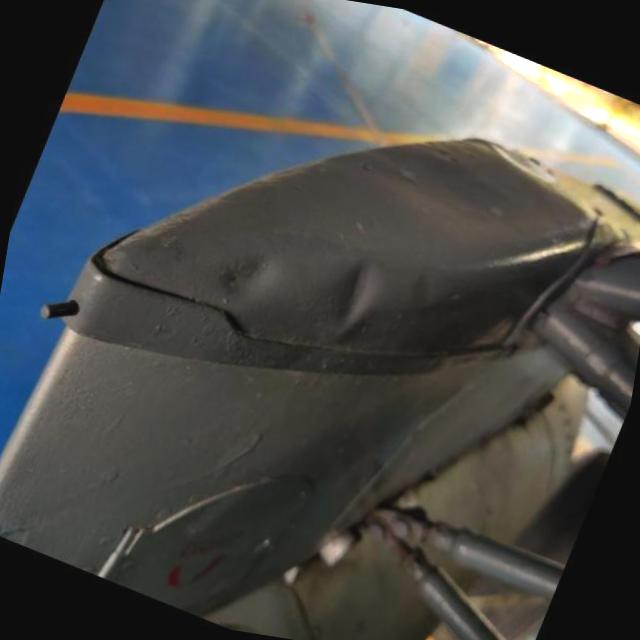dent: (184, 217, 296, 336), (326, 250, 384, 336)
